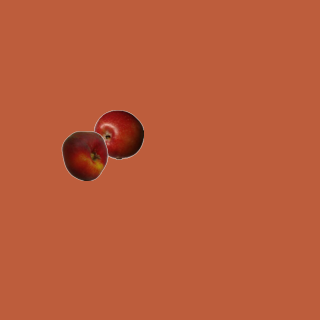Apple Braeburn: (93, 109, 143, 159)
Nectarine Flat: (59, 130, 109, 180)
